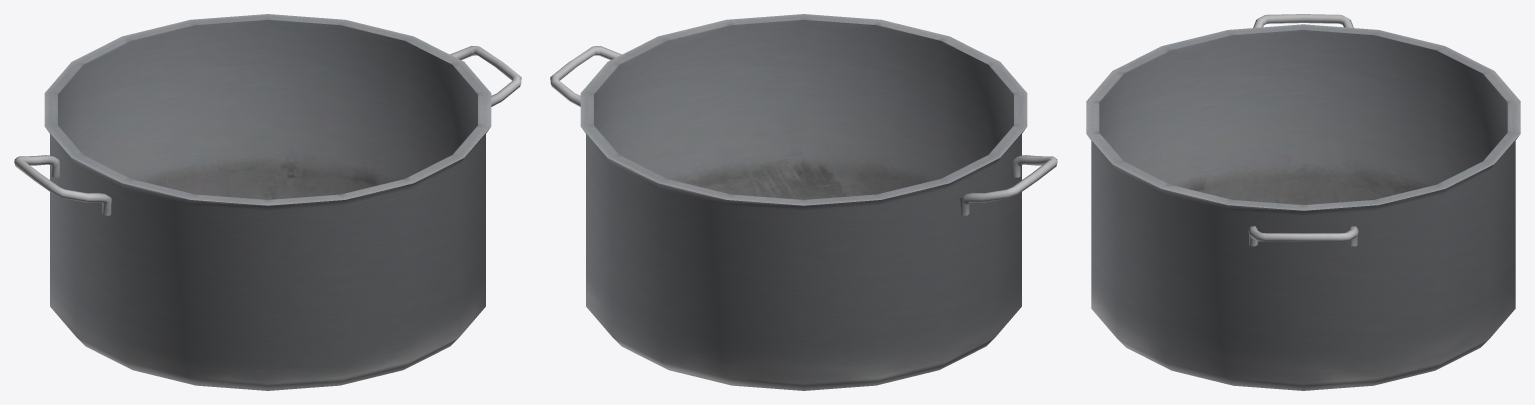
Rendered from SM_Pot_02.glb.
3 renders of one model, left to right at view 1: azimuth 30°, elevation 25°; view 2: azimuth 150°, elevation 25°; view 3: azimuth 270°, elevation 25°, orthographic. The views are drawn at different scales.
Visible parts, largest first — view 1: SM_Pot_02; view 2: SM_Pot_02; view 3: SM_Pot_02.
Part boxes in pixels (box(x1,y1,x2,y2)): SM_Pot_02: box(14, 14, 521, 390); SM_Pot_02: box(550, 14, 1057, 390); SM_Pot_02: box(1086, 14, 1520, 390).
Size of the model in its own units: 0.4898 by 0.2 by 0.4036.
1 material, 1 textured.
